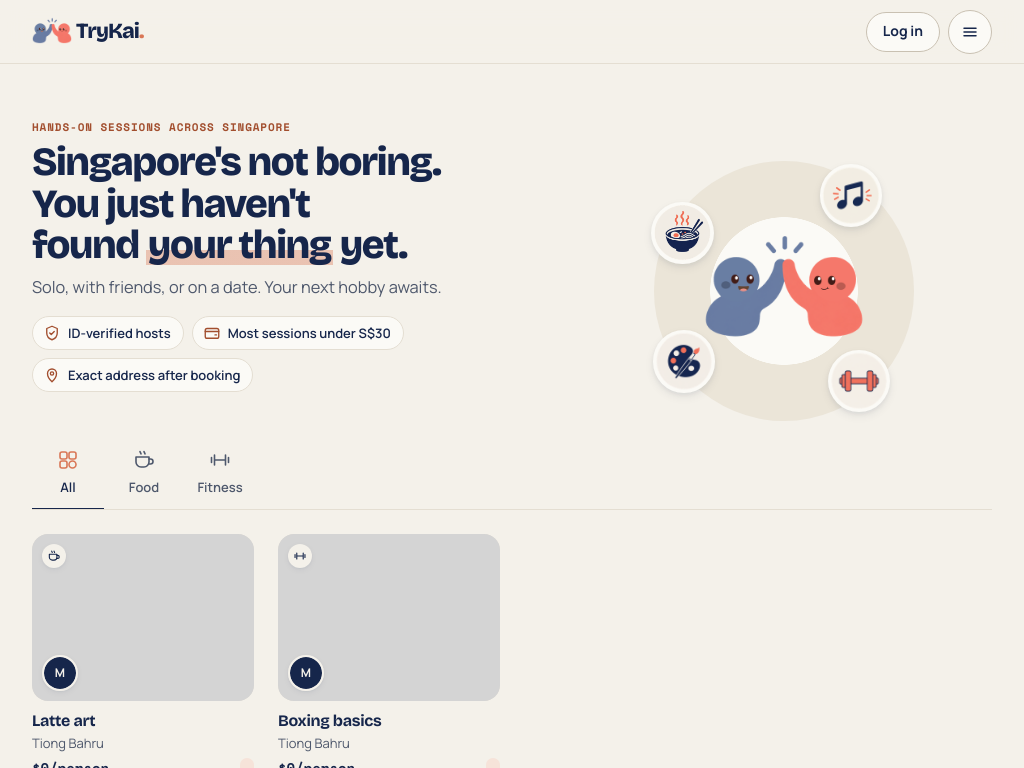
Test: App routes › does not scroll to the top when the Home category changes
Check: the heading "Latte art" is shown, box x1=32 y1=711 x2=95 y2=730
Click the button "Food" at (144, 476), box x1=108 y1=440 x2=180 y2=510
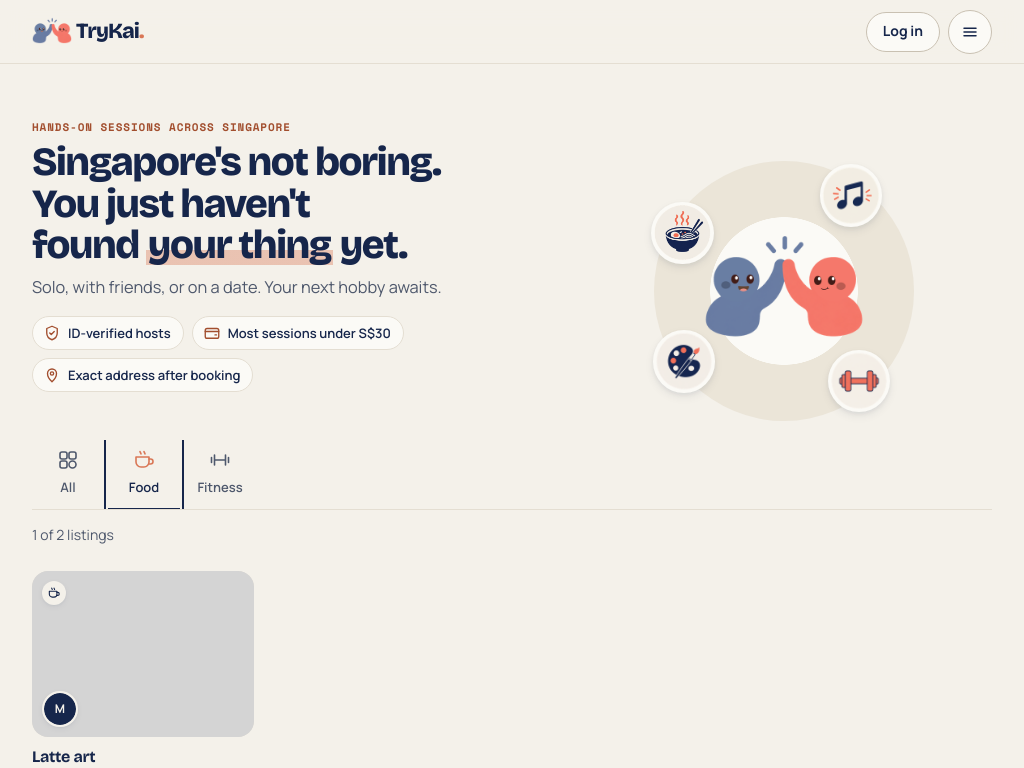
Check: the heading "Latte art" is shown, box x1=32 y1=747 x2=95 y2=766
Check: the link "Boxing basics" is gone
